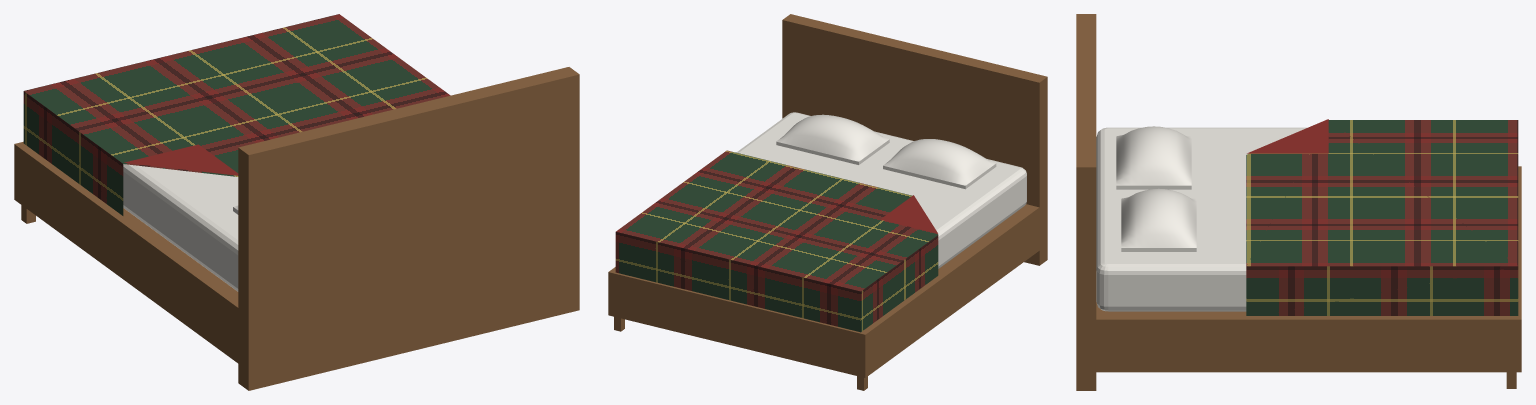
The model's file is bed.glb.
The picture shows the model from 3 angles, left to right: view 1: azimuth 30°, elevation 25°; view 2: azimuth 150°, elevation 25°; view 3: azimuth 270°, elevation 25°; orthographic projection. The views are drawn at different scales.
Visible parts, largest first — view 1: bed; view 2: bed; view 3: bed.
Boxes of the visible parts, x1,y1,x2,y2 form: bed: (14, 14, 579, 390); bed: (608, 14, 1047, 390); bed: (1076, 14, 1521, 390).
Size of the model in its own units: 5.29 by 3.6 by 6.49.
4 materials, 1 textured.
